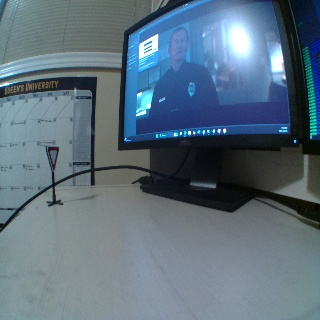sign_yield: (44, 145, 60, 170)
